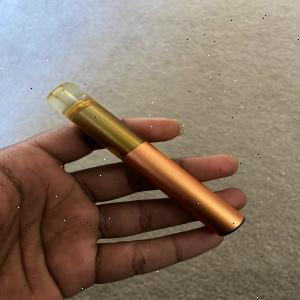Golden-E-Ciggirate: (34, 73, 261, 250)
